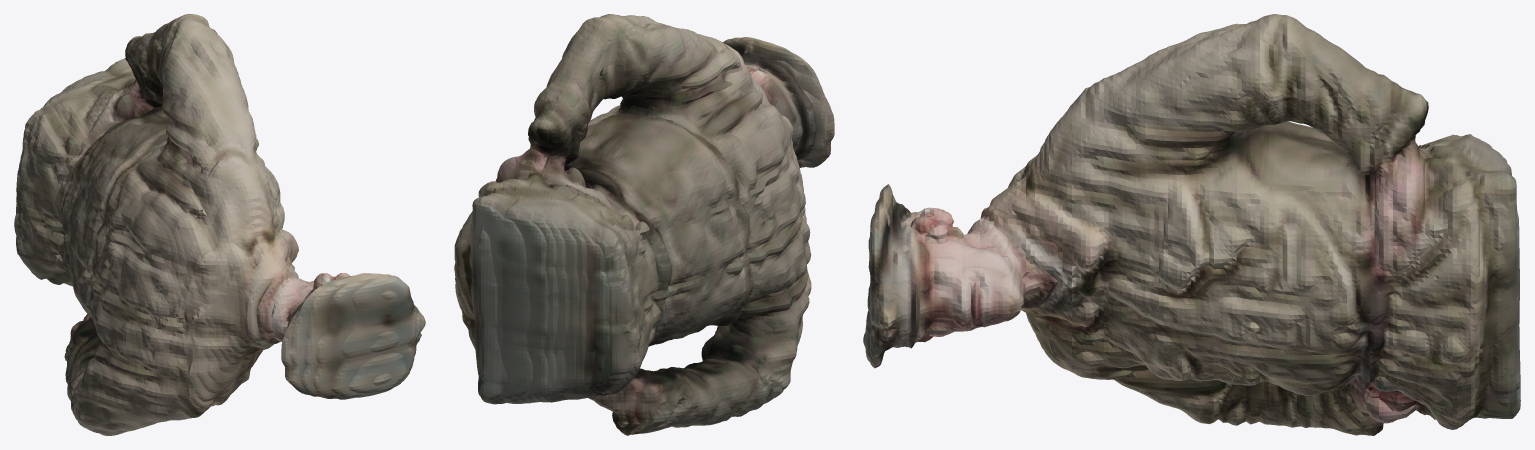
3 renders of one model, left to right at view 1: azimuth 30°, elevation 25°; view 2: azimuth 150°, elevation 25°; view 3: azimuth 270°, elevation 25°, orthographic. The views are drawn at different scales.
Visible parts, largest first — view 1: geometry_0; view 2: geometry_0; view 3: geometry_0.
Part boxes in pixels (x1,y1,x2,y2): geometry_0: (14,14,425,435); geometry_0: (454,14,834,435); geometry_0: (863,14,1520,435).
Bounding box in the file's own units: 0.4854 × 0.763 × 0.9785.
